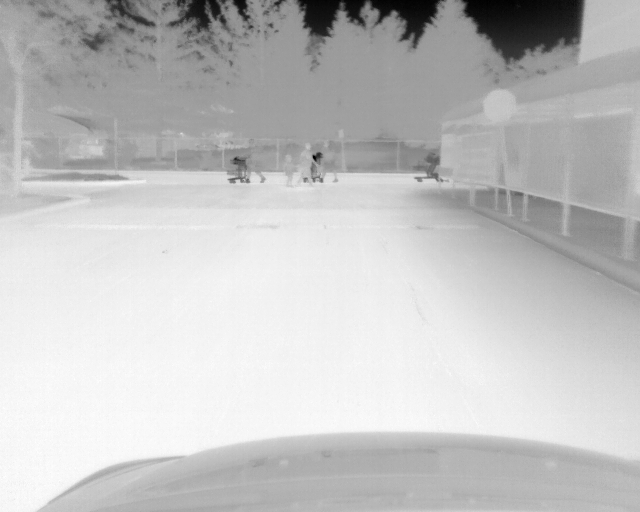people: (238, 139, 266, 185), (296, 142, 321, 188), (321, 138, 340, 184), (283, 154, 295, 187)
